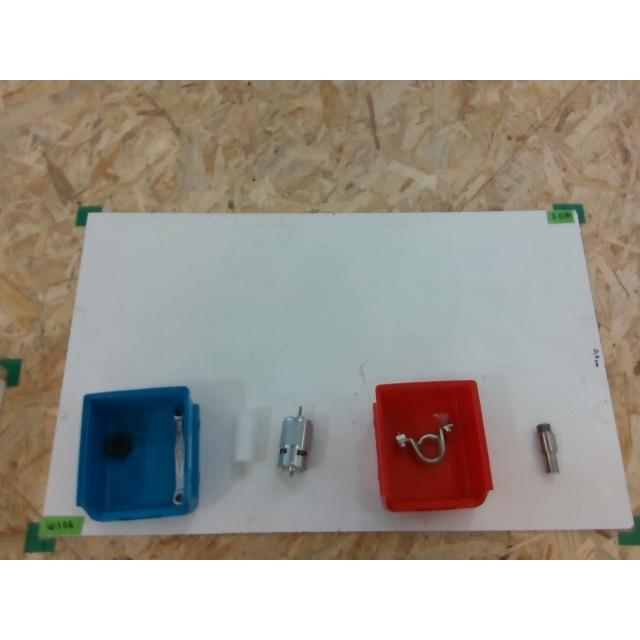Axis2: (537, 423, 559, 473)
Housing: (395, 423, 453, 463)
M20: (104, 434, 132, 458)
Motor2: (276, 406, 312, 476)
Spacer: (234, 411, 258, 462)
Wrench: (172, 408, 184, 506)
container_box_blue: (76, 386, 200, 520)
container_box_red: (372, 381, 492, 512)
